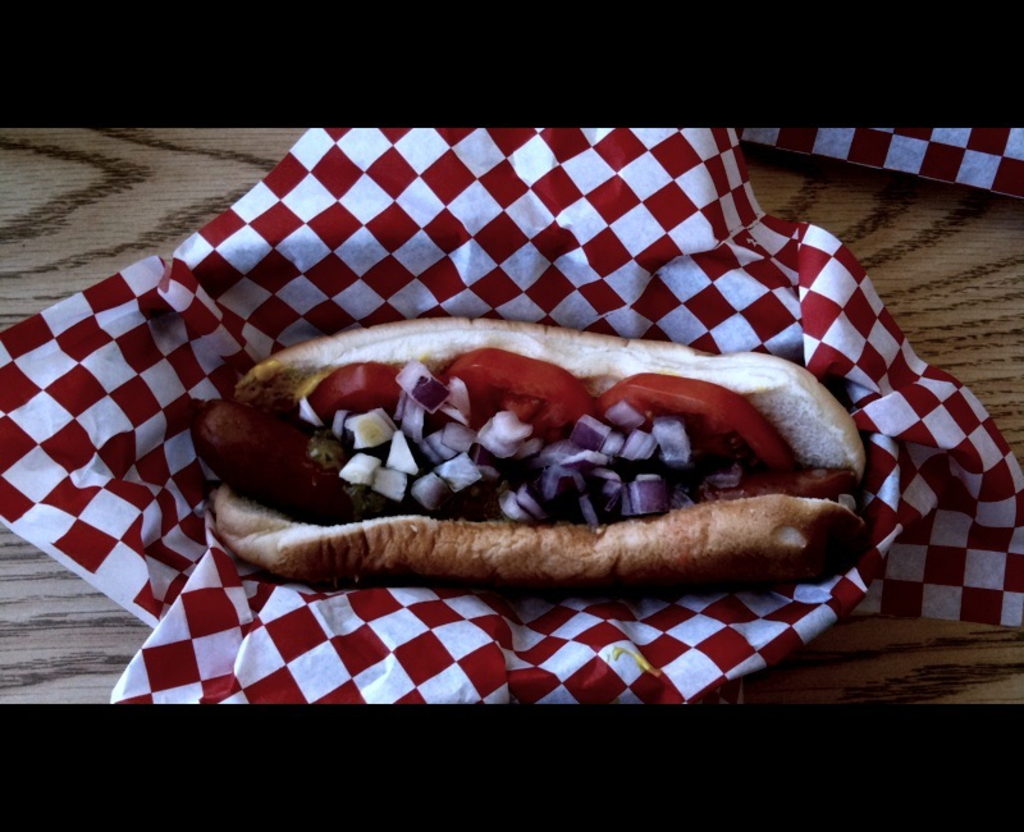hot_dog: (174, 323, 881, 602)
